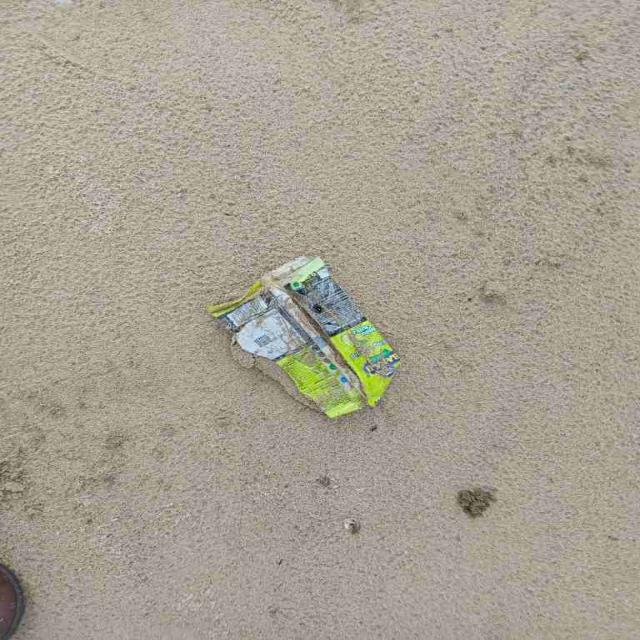wrapper: (208, 256, 400, 419)
